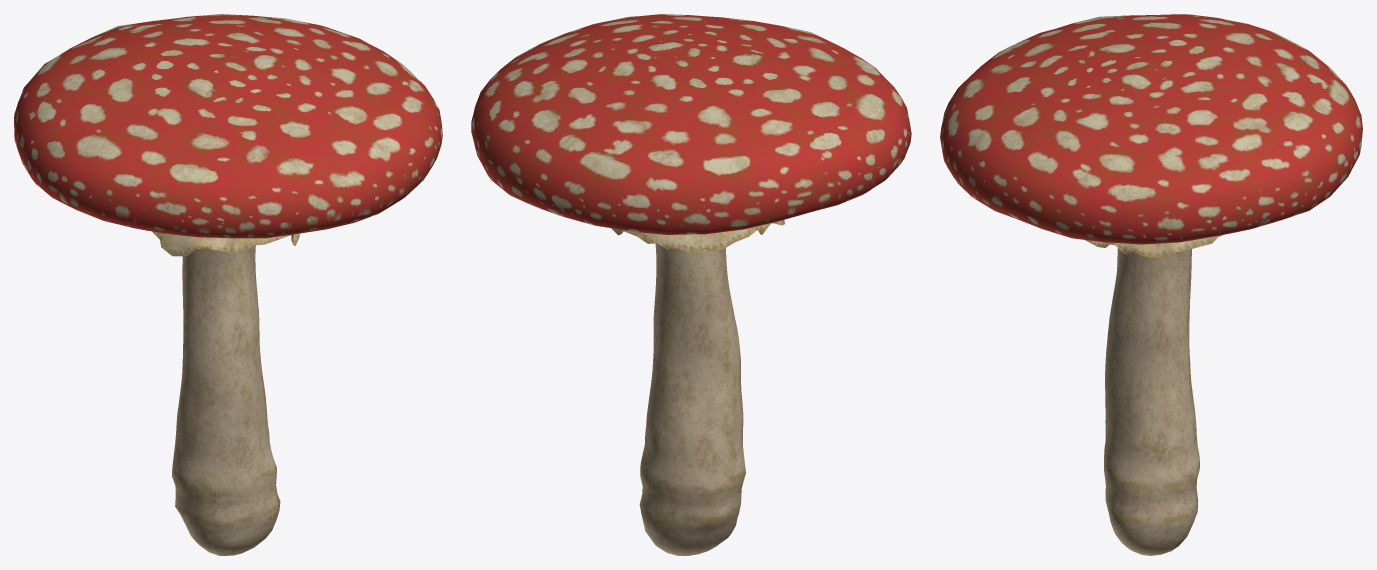
3 renders of one model, left to right at view 1: azimuth 30°, elevation 25°; view 2: azimuth 150°, elevation 25°; view 3: azimuth 270°, elevation 25°, orthographic. The views are drawn at different scales.
Parts seen in each view (by area): view 1: hood_low, stem_low, annulus_low; view 2: hood_low, stem_low, annulus_low; view 3: hood_low, stem_low, annulus_low.
Boxes of the visible parts, left/top/right/bottom form: hood_low: left=14, top=14, right=442, bottom=238; stem_low: left=172, top=245, right=280, bottom=555; annulus_low: left=146, top=230, right=300, bottom=256; hood_low: left=471, top=14, right=911, bottom=234; stem_low: left=639, top=243, right=745, bottom=555; annulus_low: left=611, top=220, right=784, bottom=253; hood_low: left=940, top=14, right=1362, bottom=244; stem_low: left=1104, top=248, right=1199, bottom=555; annulus_low: left=1085, top=235, right=1222, bottom=257.
Bounding box in the file's own units: 103 × 127 × 101.
1 material, 1 textured.
